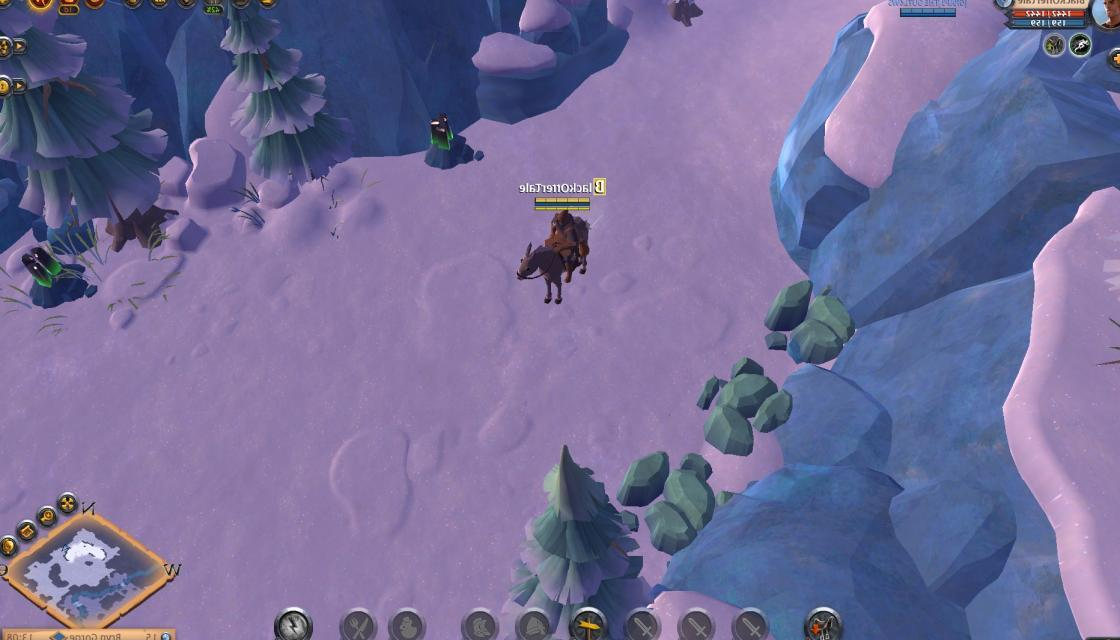sandstone: (613, 442, 720, 548), (696, 354, 795, 454), (763, 278, 861, 366)
tinore: (21, 242, 82, 310), (417, 111, 476, 174)
